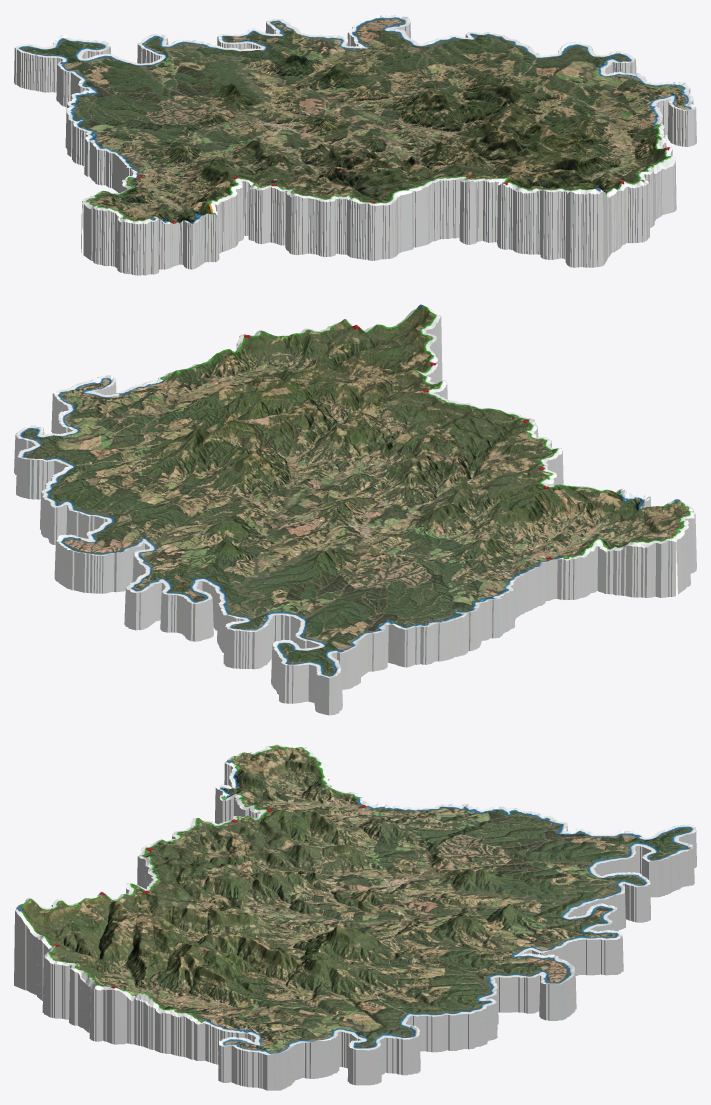
3 renders of one model, top to bottom at view 1: azimuth 30°, elevation 25°; view 2: azimuth 150°, elevation 25°; view 3: azimuth 270°, elevation 25°, orthographic. The views are drawn at different scales.
Bounding box in the file's own units: 0.9998 × 0.1233 × 0.9867.
1 material, 1 textured.
